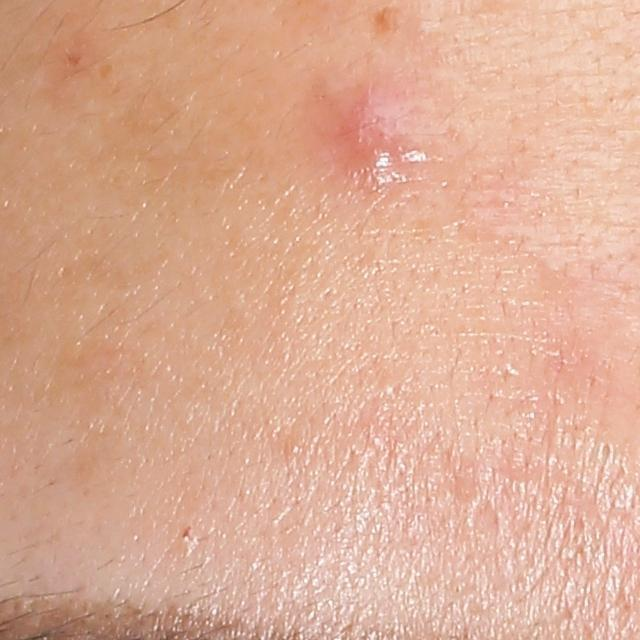papule: (338, 86, 417, 174)
